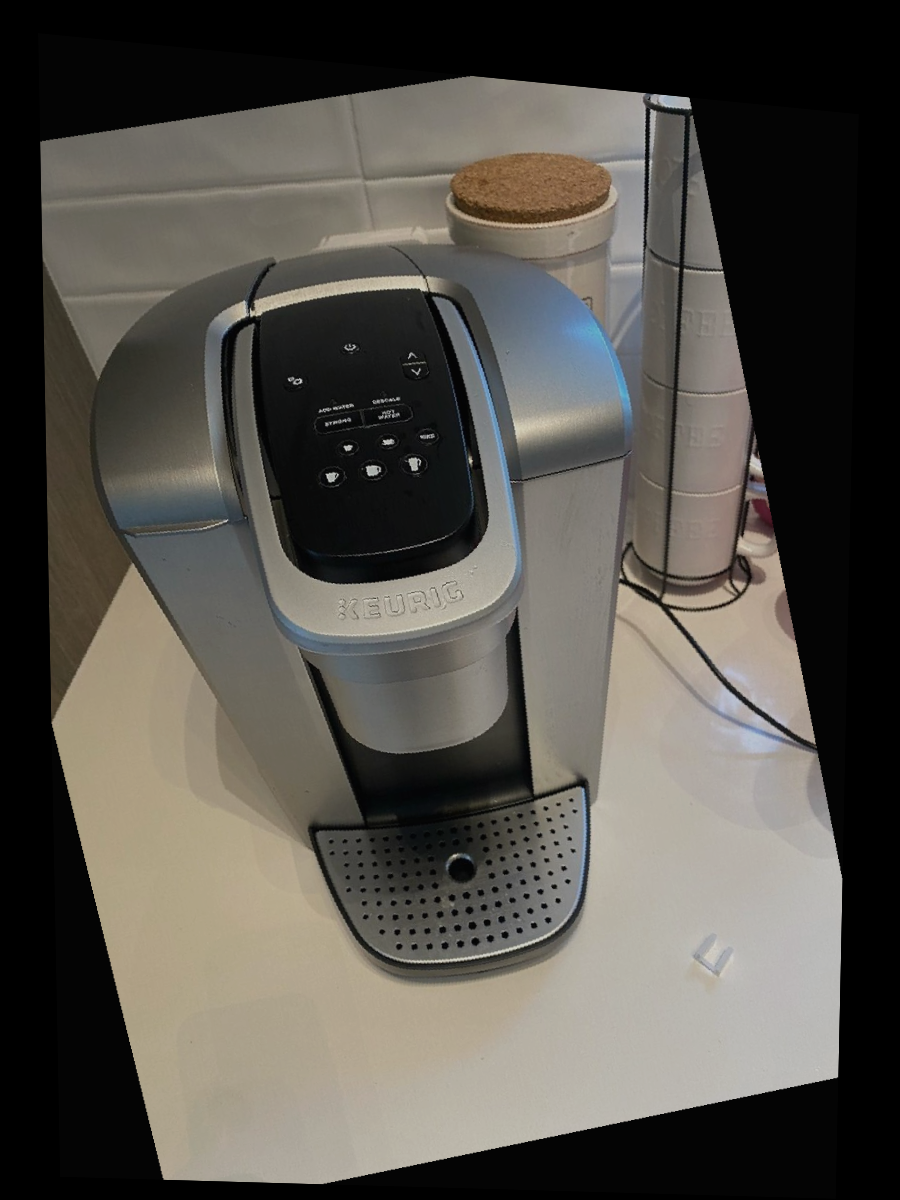10oz: (358, 458, 390, 482)
12oz: (397, 453, 429, 477)
4oz: (338, 440, 361, 456)
6oz: (376, 433, 400, 451)
8oz: (316, 465, 348, 488)
add_water: (307, 388, 358, 417)
coffee_handle: (315, 609, 504, 669)
descale: (355, 379, 410, 408)
hot: (359, 399, 418, 429)
iced: (416, 427, 442, 447)
platform: (438, 846, 482, 889)
power: (339, 340, 362, 356)
strong: (311, 409, 362, 438)
water_handle: (119, 518, 232, 541)
